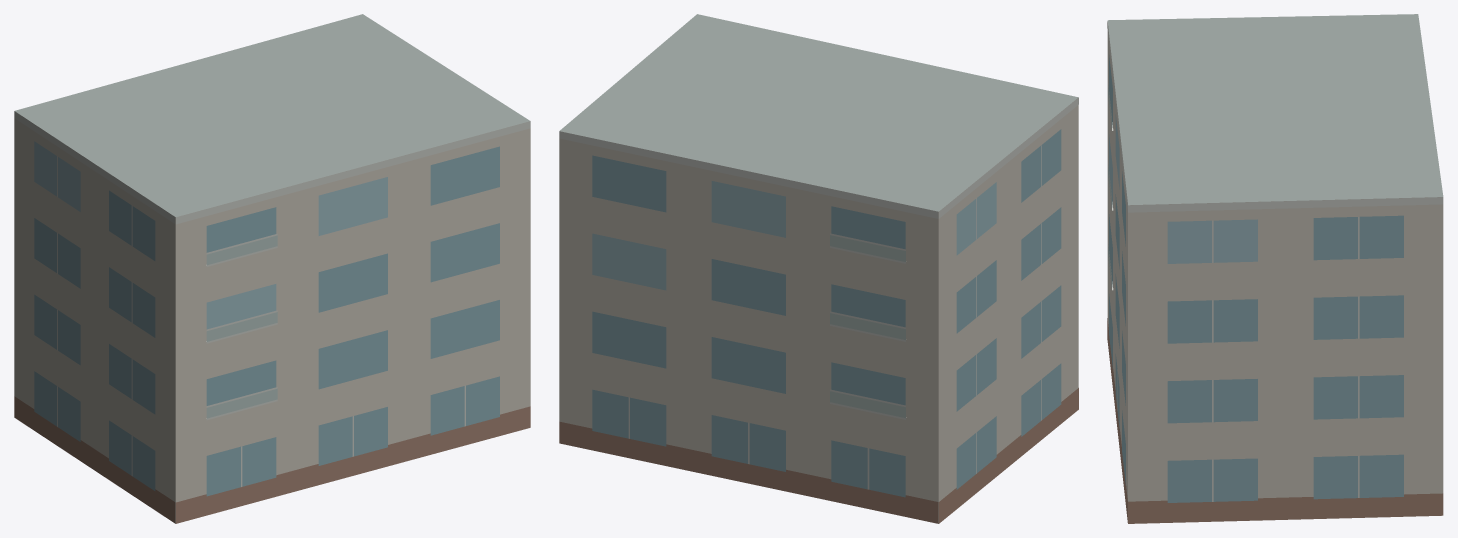
The model's file is survey-upis-32651342.glb.
3 views of the same model, side by side, from view 1: azimuth 30°, elevation 25°; view 2: azimuth 150°, elevation 25°; view 3: azimuth 270°, elevation 25° (orthographic). The views are drawn at different scales.
Visible parts, largest first — view 1: survey-upis-32651342.tmp; view 2: survey-upis-32651342.tmp; view 3: survey-upis-32651342.tmp.
Boxes of the visible parts, left/top/right/bottom form: survey-upis-32651342.tmp: left=14, top=14, right=530, bottom=523; survey-upis-32651342.tmp: left=559, top=14, right=1078, bottom=523; survey-upis-32651342.tmp: left=1107, top=14, right=1443, bottom=523.
Size of the model in its own units: 13.39 by 10.4 by 9.95.
